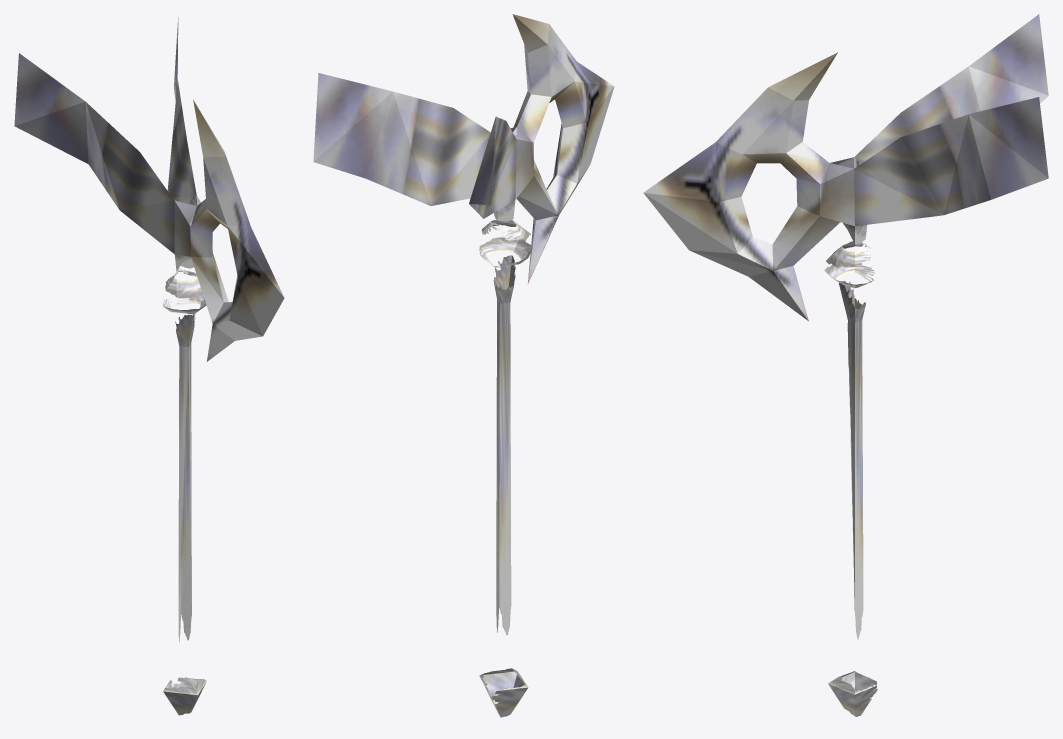
The model's file is heavyaxeman05.obj.
3 renders of one model, left to right at view 1: azimuth 30°, elevation 25°; view 2: azimuth 150°, elevation 25°; view 3: azimuth 270°, elevation 25°, orthographic. The views are drawn at different scales.
Visible parts, largest first — view 1: heavyaxeman05; view 2: heavyaxeman05; view 3: heavyaxeman05.
Part boxes in pixels (<box>): heavyaxeman05: <box>14,17,284,715</box>; heavyaxeman05: <box>313,14,614,717</box>; heavyaxeman05: <box>643,14,1048,716</box>.
Size of the model in its own units: 0.6638 by 2.51 by 1.37.
